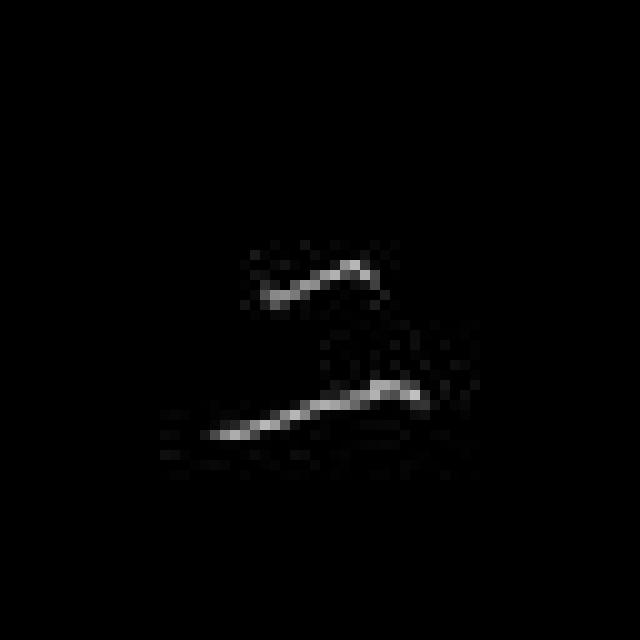2 -two-: (202, 247, 437, 450)
